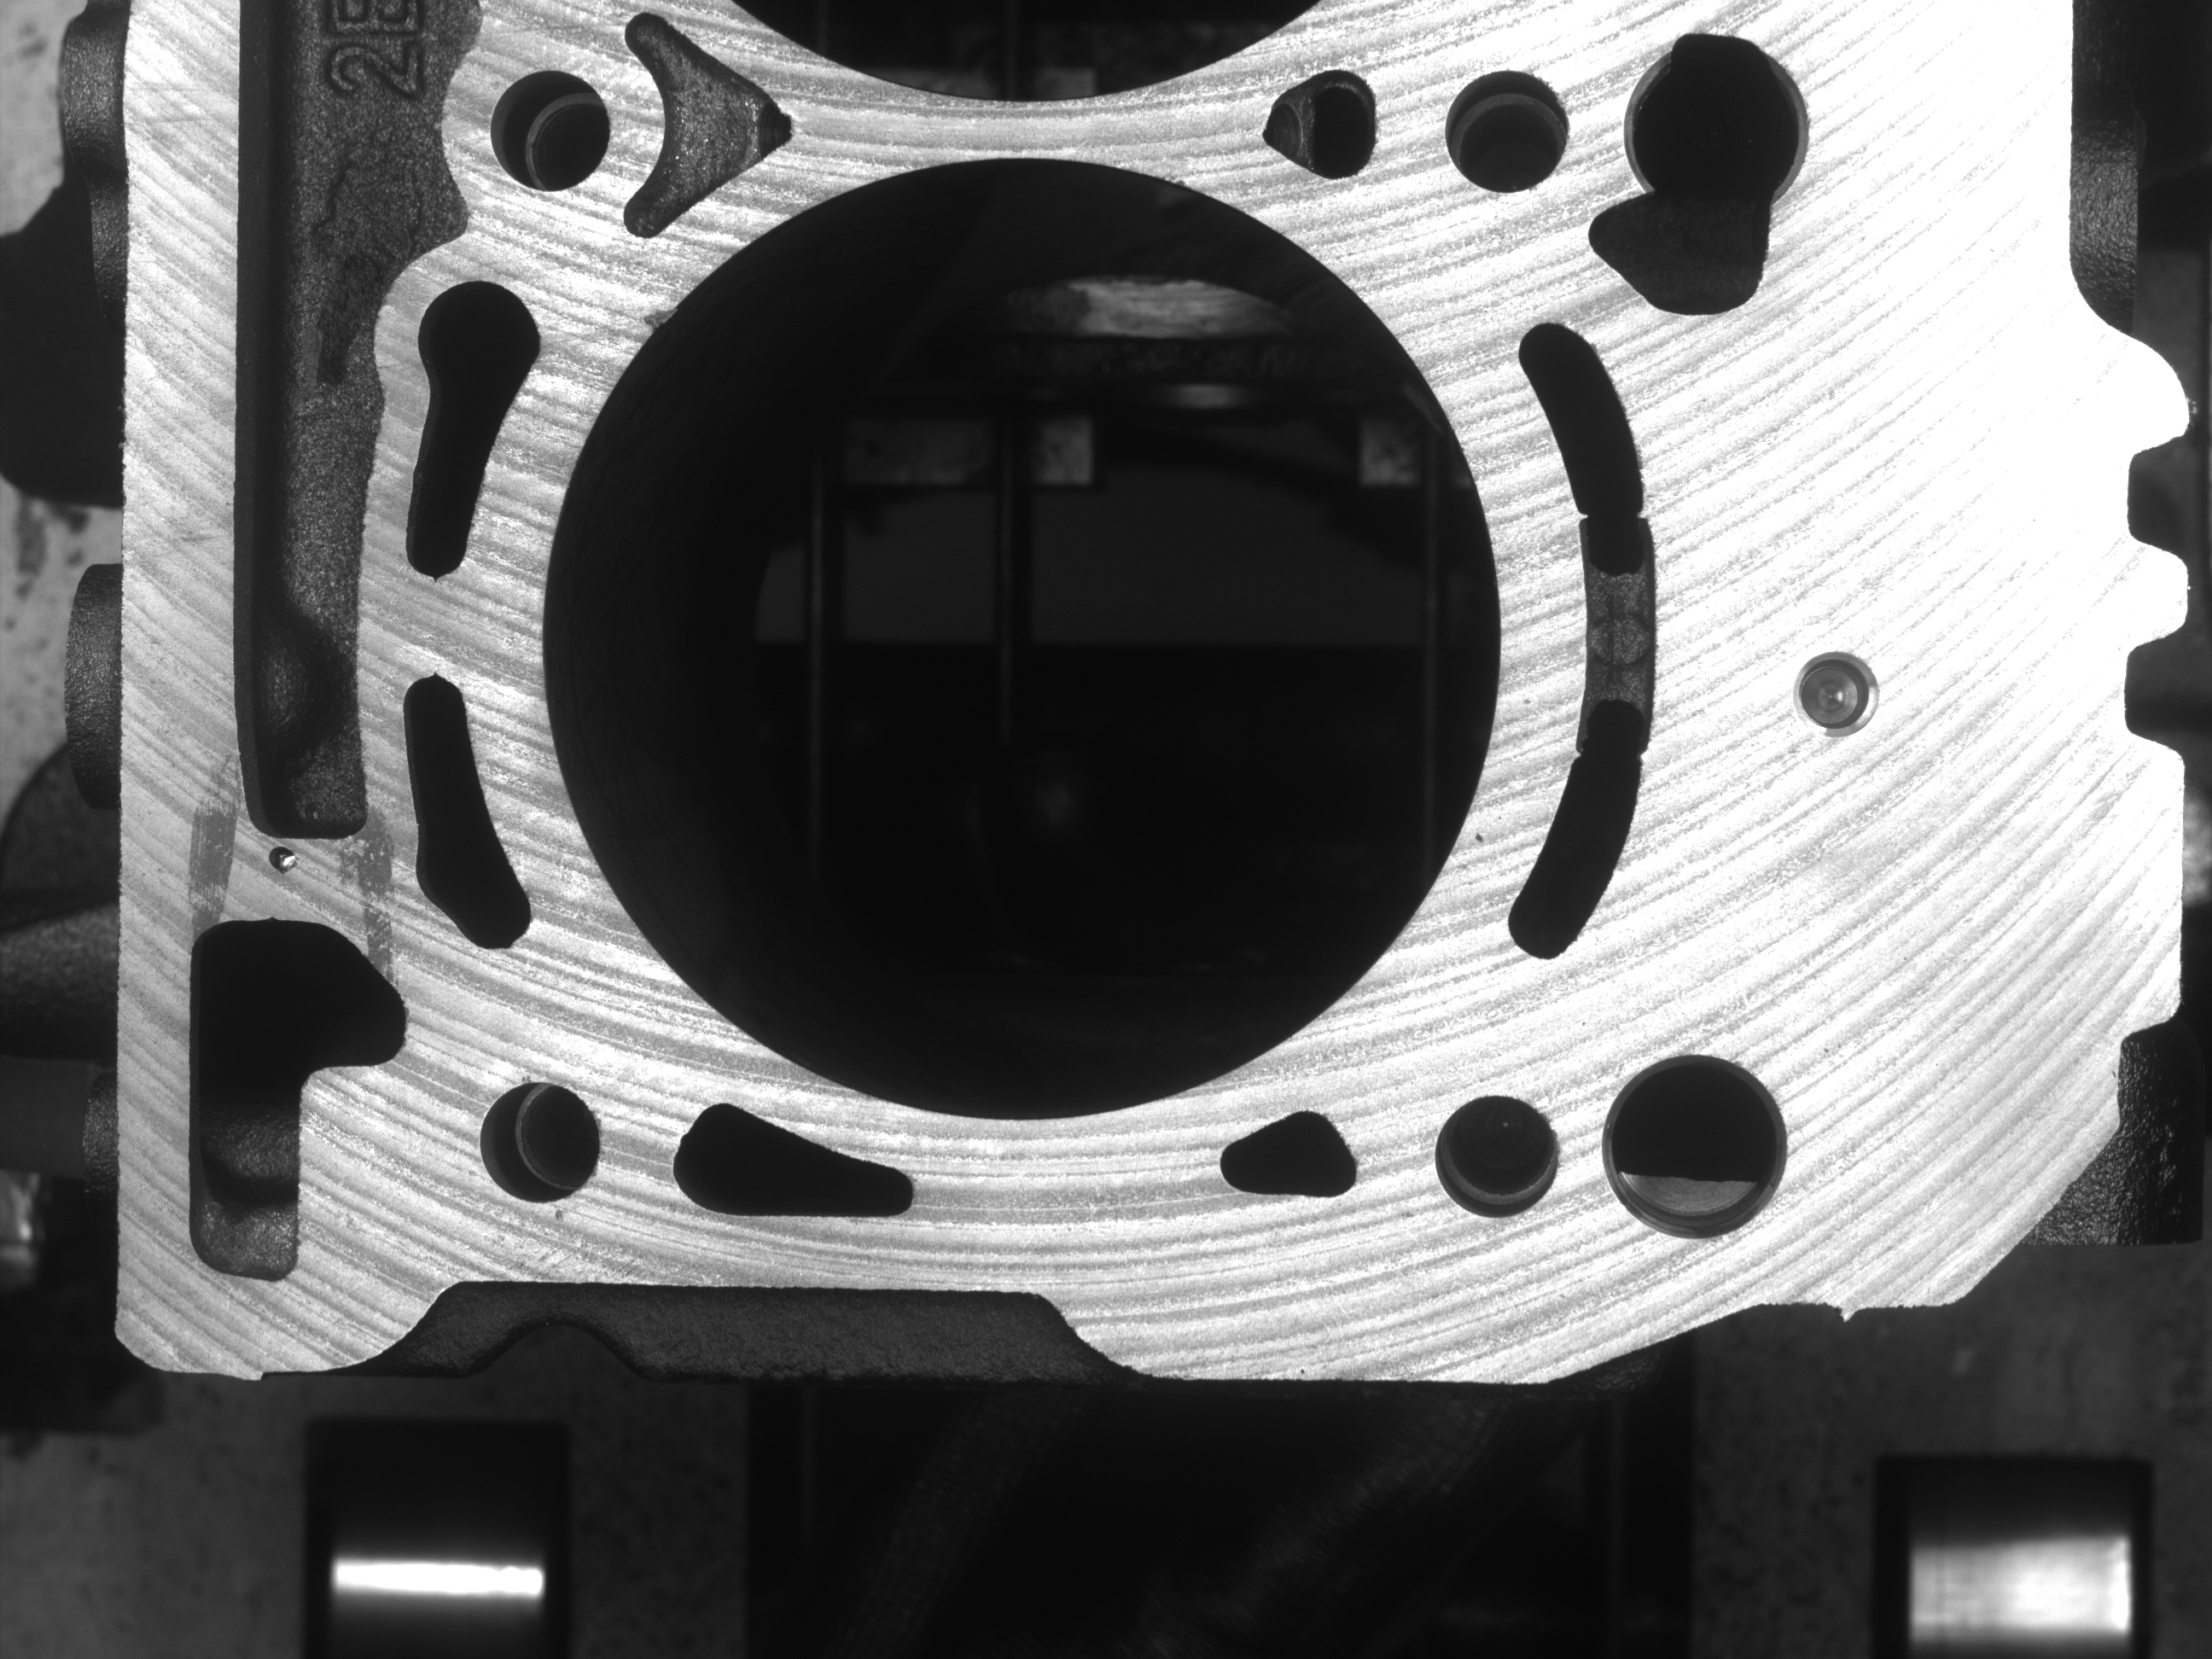crackle: (254, 843, 307, 885)
